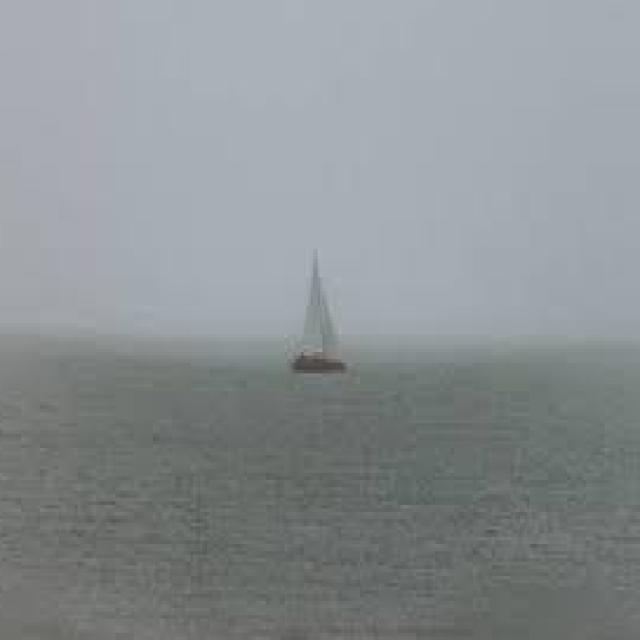sailboat: (292, 249, 360, 370)
